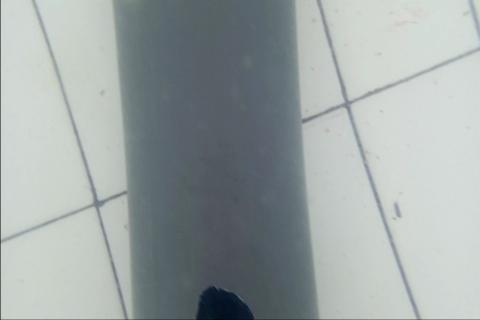kebocoran: (191, 281, 256, 320)
